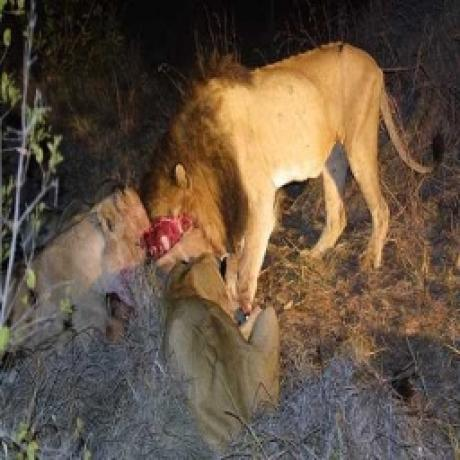Lion: (146, 33, 447, 292)
